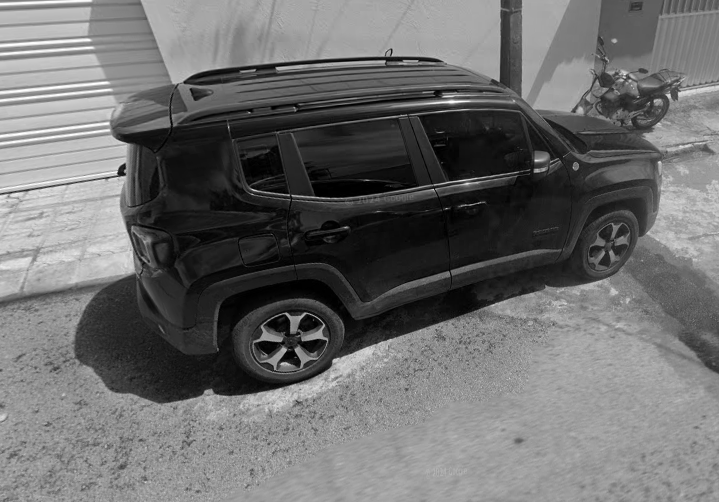car: (109, 46, 667, 387)
